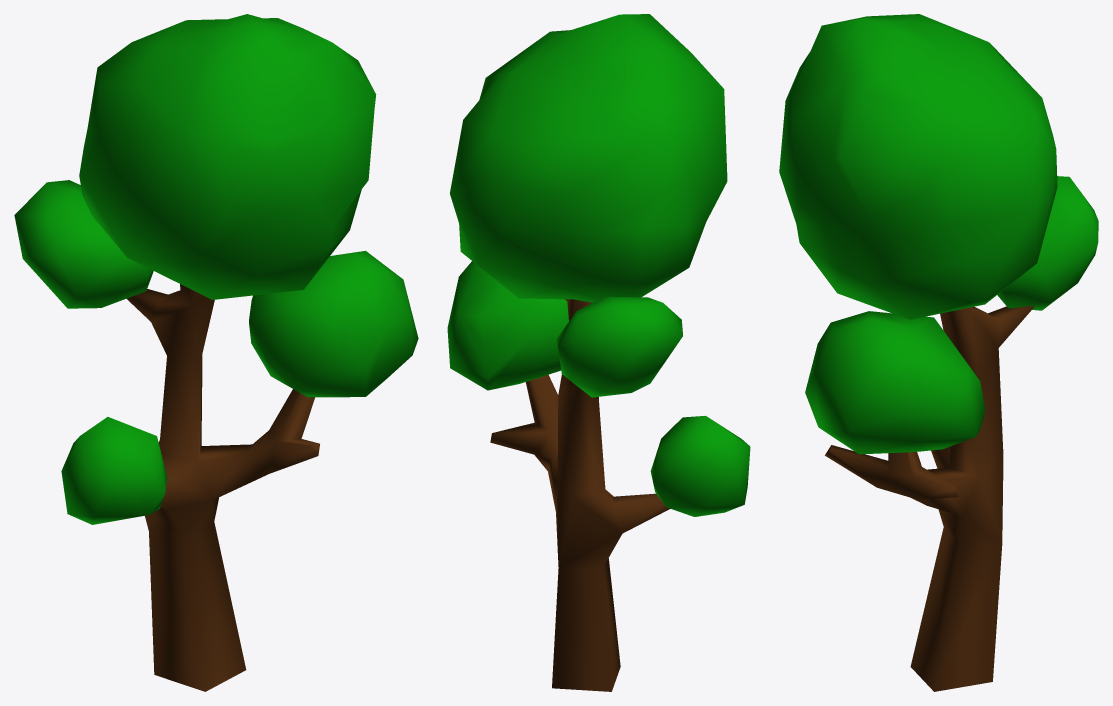
The model's file is Tree_3.fbx.
3 views of the same model, side by side, from view 1: azimuth 30°, elevation 25°; view 2: azimuth 150°, elevation 25°; view 3: azimuth 270°, elevation 25° (orthographic). The views are drawn at different scales.
Parts seen in each view (by area): view 1: Tree_C; view 2: Tree_C; view 3: Tree_C.
Boxes of the visible parts, x1,y1,x2,y2 form: Tree_C: [14, 14, 418, 691]; Tree_C: [447, 14, 750, 691]; Tree_C: [779, 14, 1098, 691].
Size of the model in its own units: 57.59 by 51.48 by 117.
